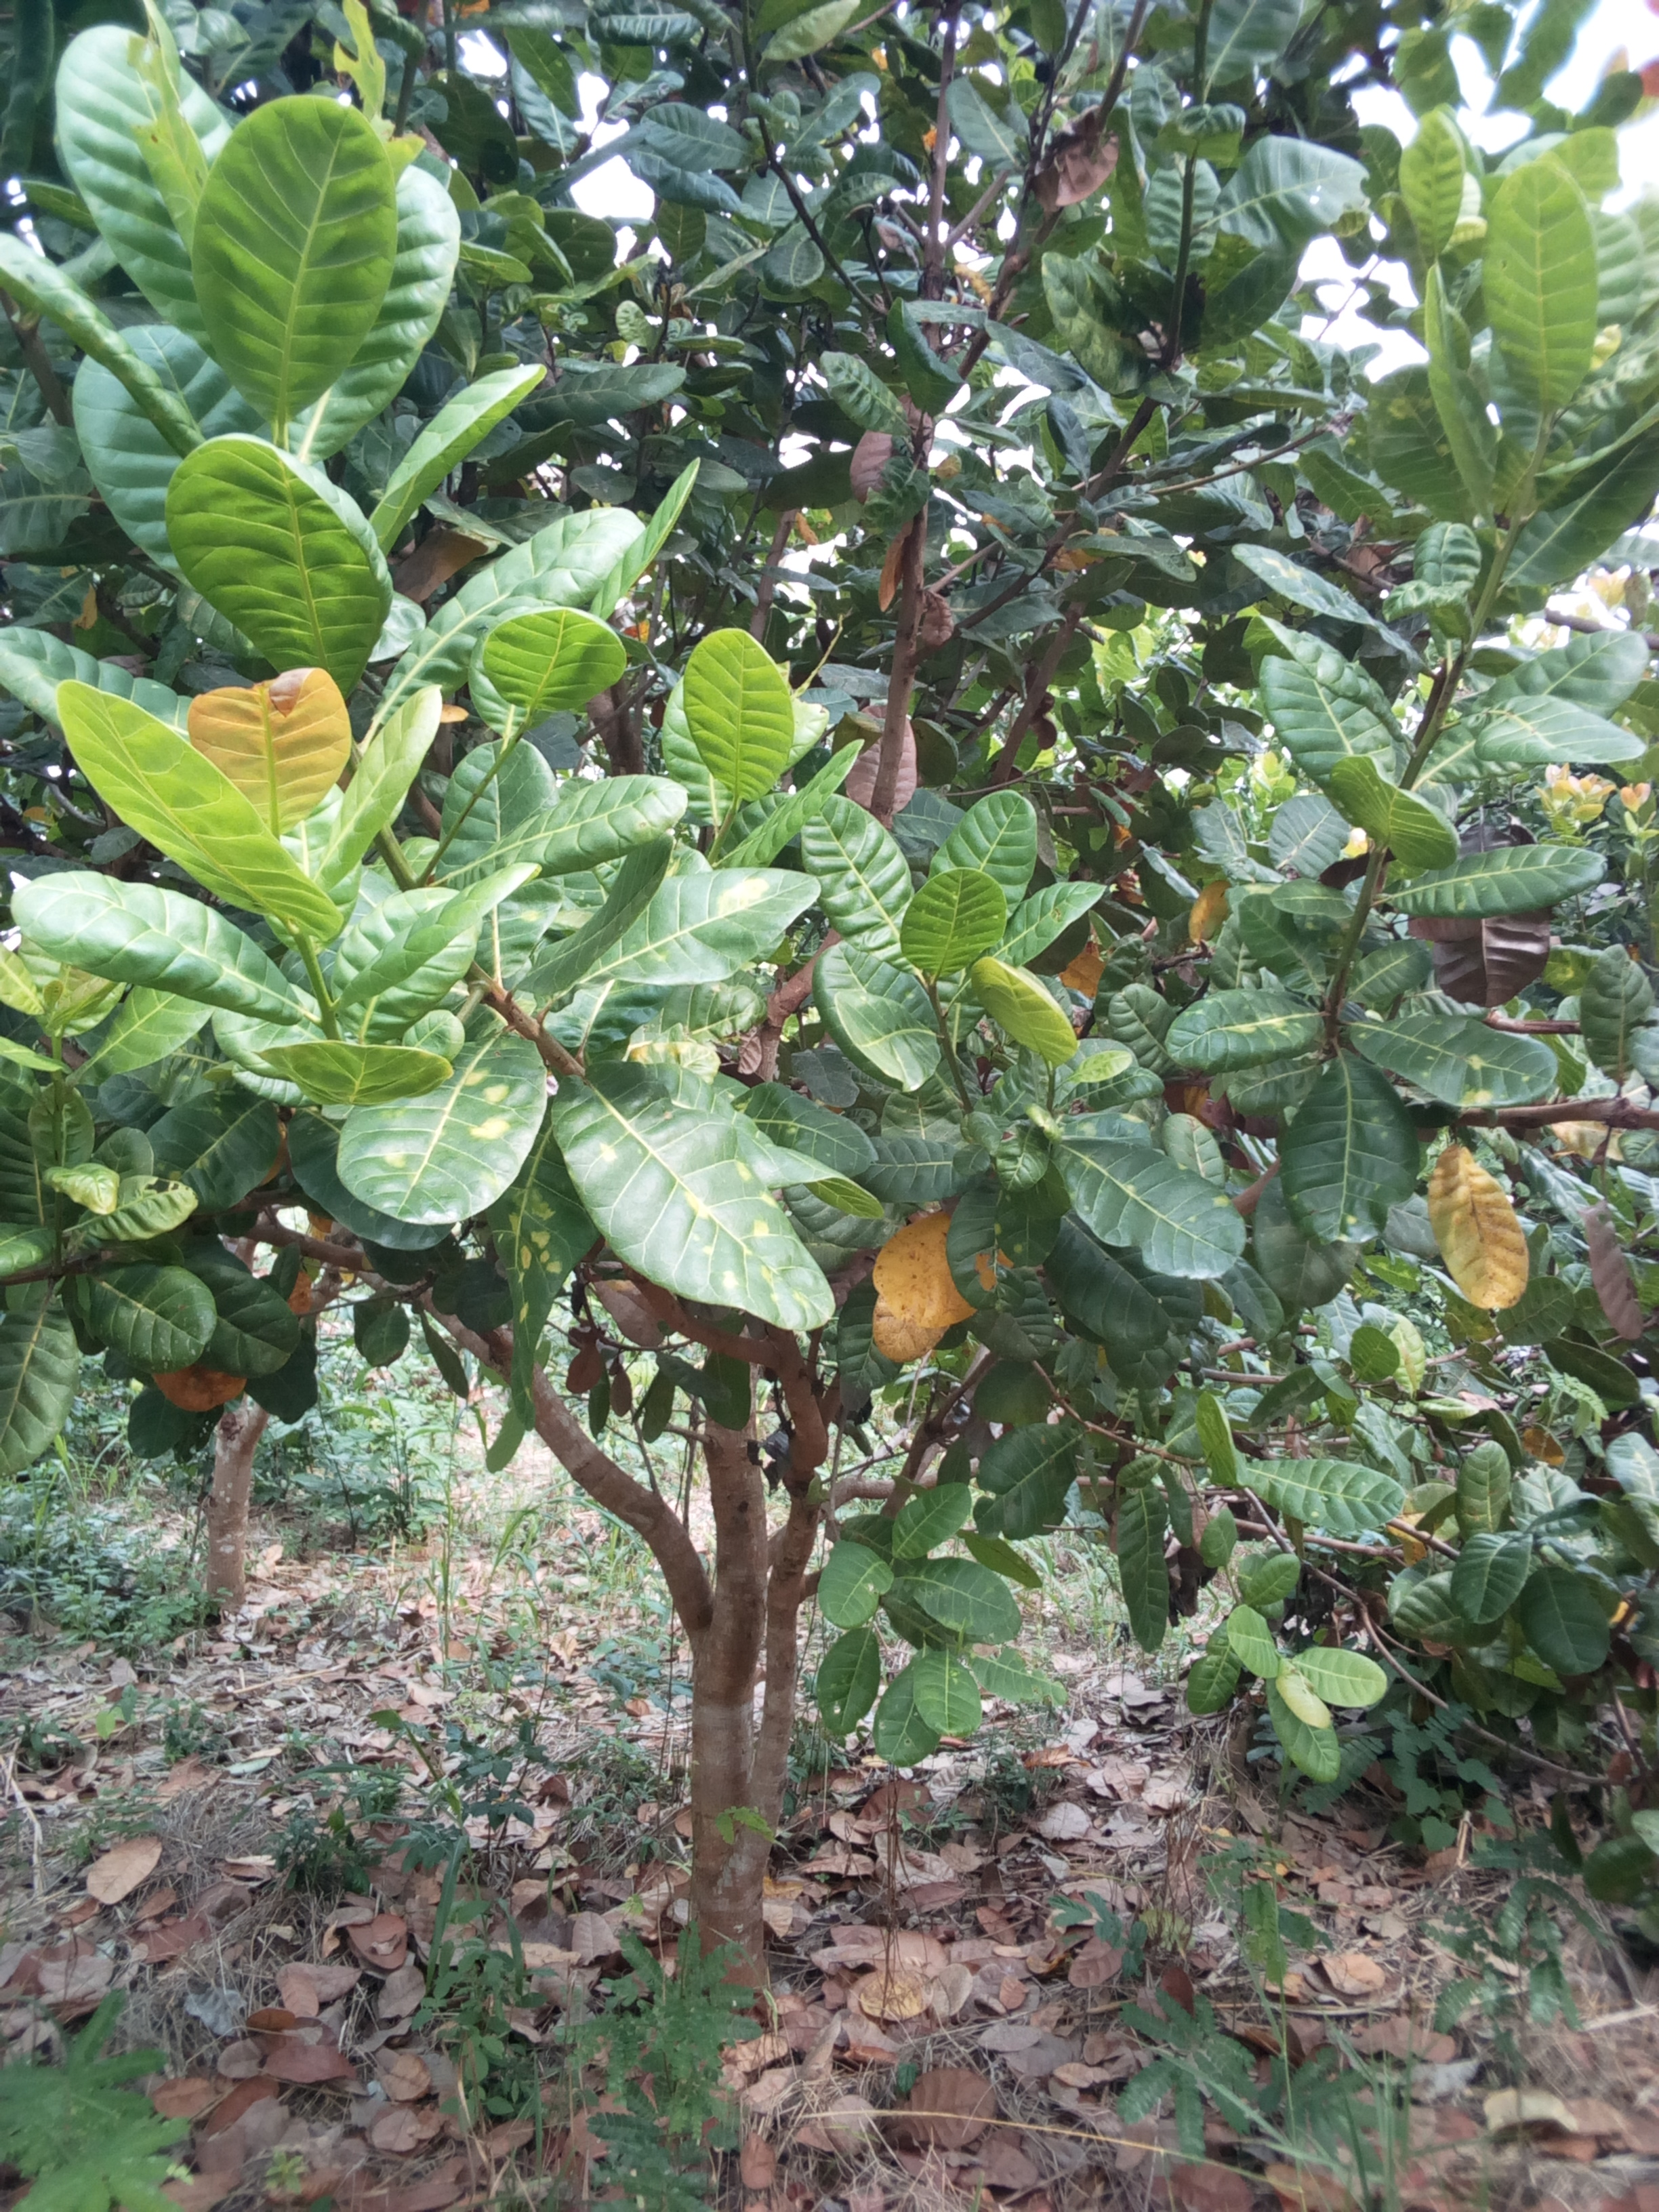Carence minérale: (558, 1069, 873, 1353), (301, 1012, 582, 1224)
